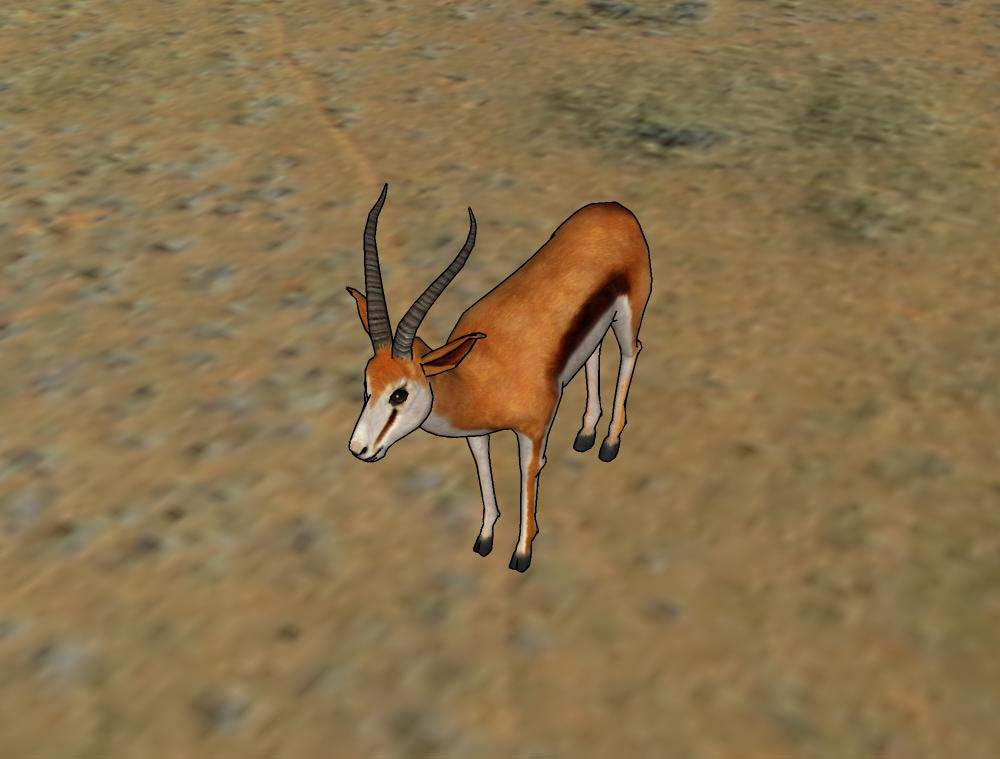springbok: (330, 179, 663, 582)
